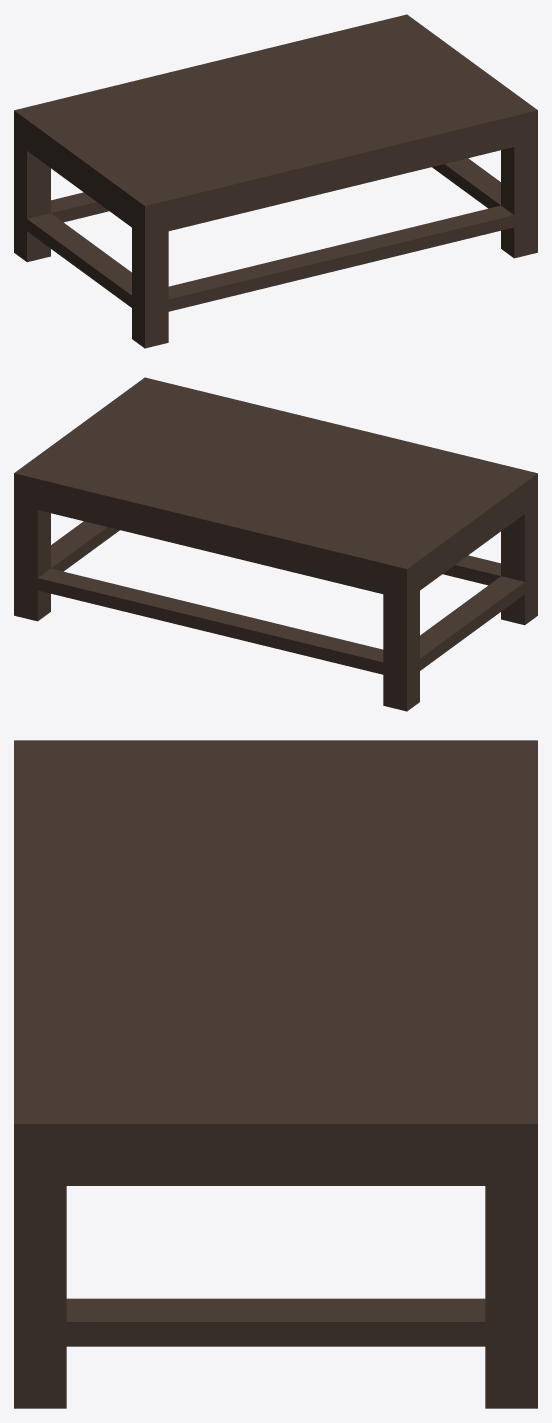
File: pk_cocktail_walnut.glb
3 renders of one model, top to bottom at view 1: azimuth 30°, elevation 25°; view 2: azimuth 150°, elevation 25°; view 3: azimuth 270°, elevation 25°, orthographic. The views are drawn at different scales.
Parts seen in each view (by area): view 1: pk_cocktail_walnut; view 2: pk_cocktail_walnut; view 3: pk_cocktail_walnut.
Boxes of the visible parts, <box> form: pk_cocktail_walnut: <box>14,14,537,348</box>; pk_cocktail_walnut: <box>14,377,537,711</box>; pk_cocktail_walnut: <box>14,740,537,1408</box>.
Bounding box in the file's own units: 1.3 × 0.45 × 0.75.
1 material, 1 textured.
